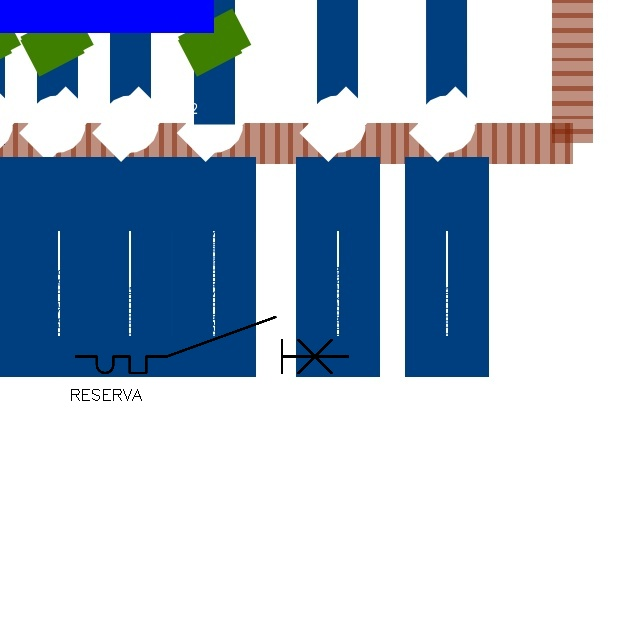interruptor_termomagnetico: (69, 310, 355, 380)
